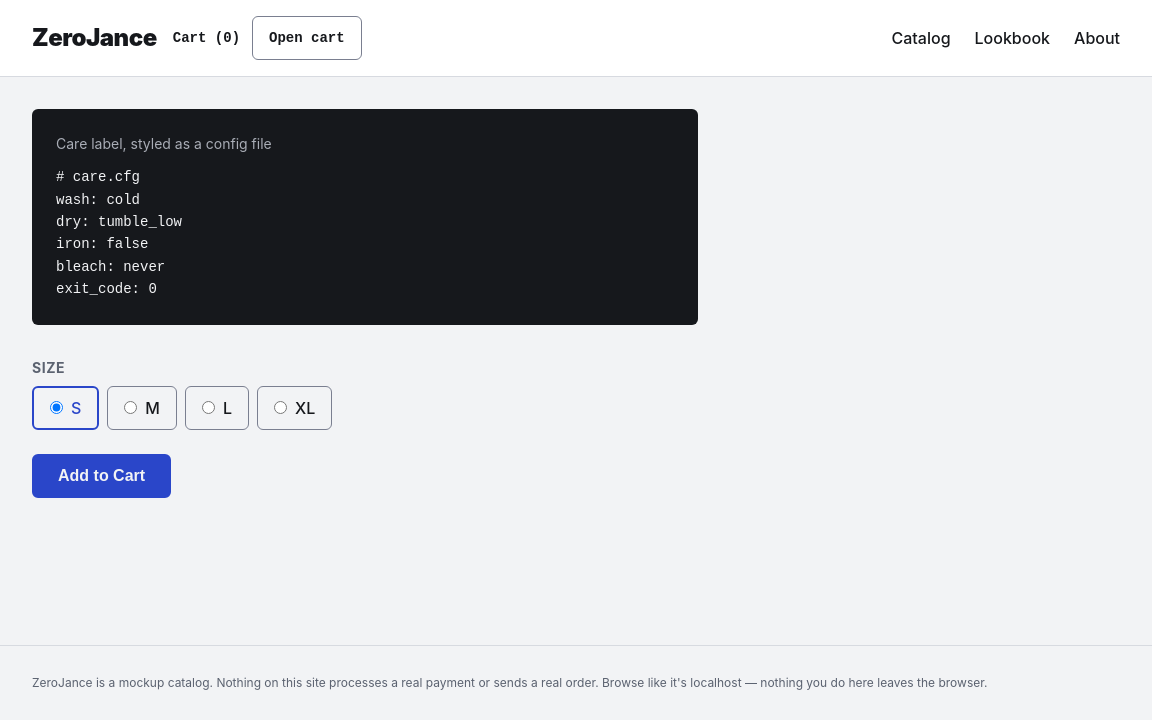
Test case: App cart drawer + mock checkout (board task E4, wired through the real header button) › opens the drawer from the header's cart toggle and shows the item added on the product page
The width and height of the screenshot is (1152, 720).
(page scrolled)
Click the button "Add to Cart". click: [102, 476]
box: [32,454,171,498]
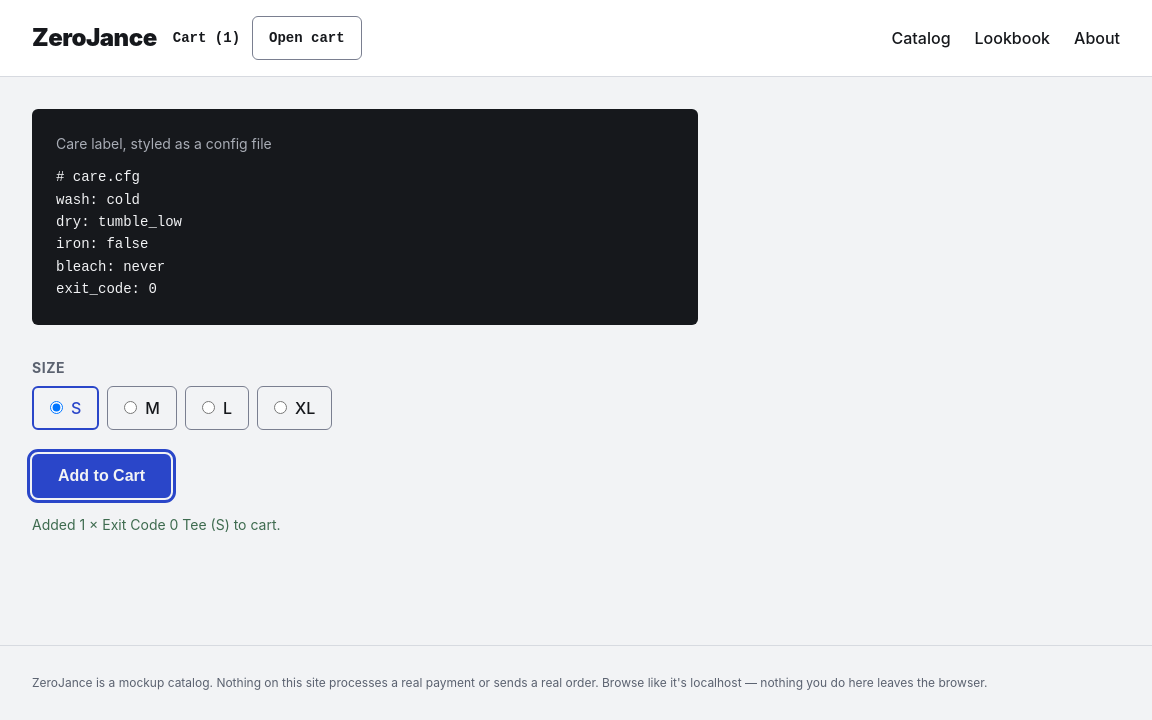
Click the button "Open cart". click: [307, 38]
box: [252,16,362,60]
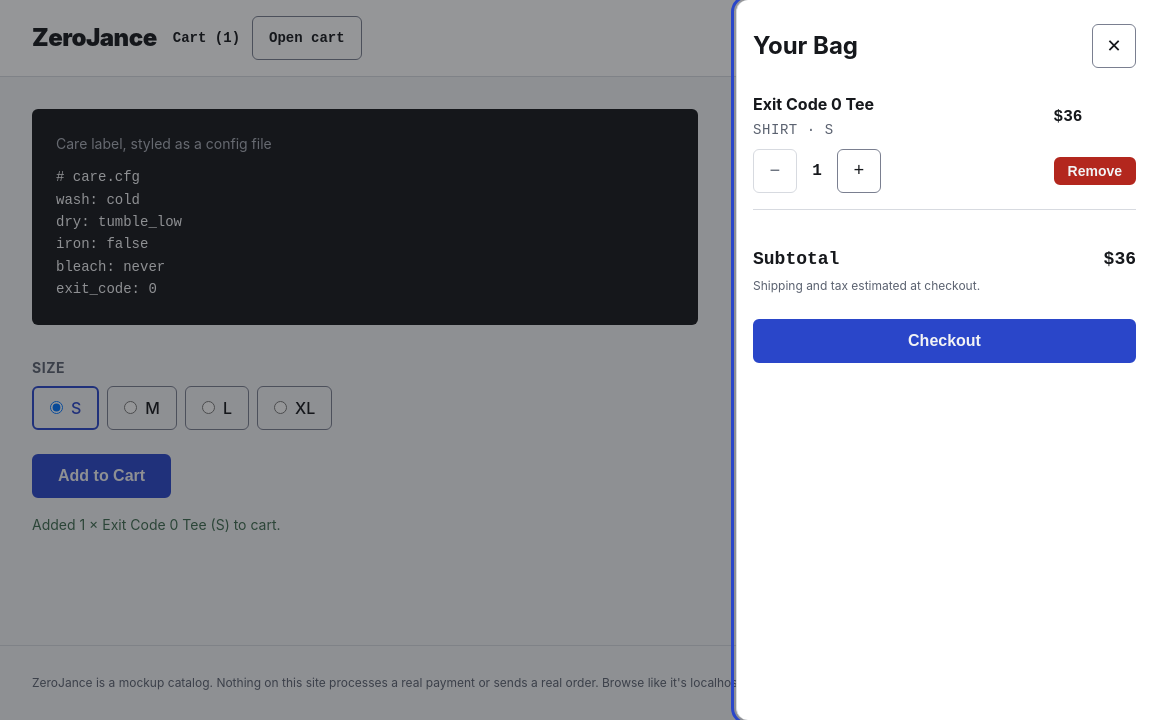
Expected: the dialog shows "Exit Code 0 Tee", [753,94,874,114]
Expected: the dialog shows "$36", [1054,108,1082,126]
